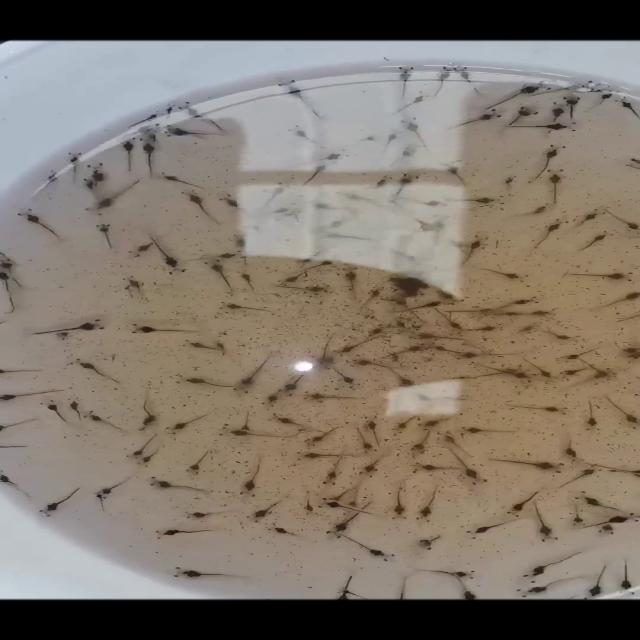shrimp2: (271, 78, 334, 126), (230, 350, 278, 397), (31, 315, 112, 341), (36, 482, 86, 524), (487, 453, 566, 477), (177, 188, 224, 228), (15, 207, 67, 240), (234, 453, 266, 503), (466, 518, 532, 541), (128, 319, 203, 339), (444, 108, 506, 132), (164, 565, 248, 582), (600, 392, 639, 428), (532, 216, 572, 249), (476, 263, 536, 285), (165, 411, 217, 436), (560, 268, 636, 285), (504, 400, 573, 418), (148, 525, 228, 540), (182, 444, 217, 478), (576, 396, 605, 436), (418, 482, 444, 524), (299, 389, 367, 405), (286, 125, 331, 149), (211, 300, 276, 316), (386, 482, 412, 522), (546, 166, 568, 208), (393, 63, 415, 101), (334, 368, 366, 393), (96, 220, 117, 254), (449, 195, 503, 206)
